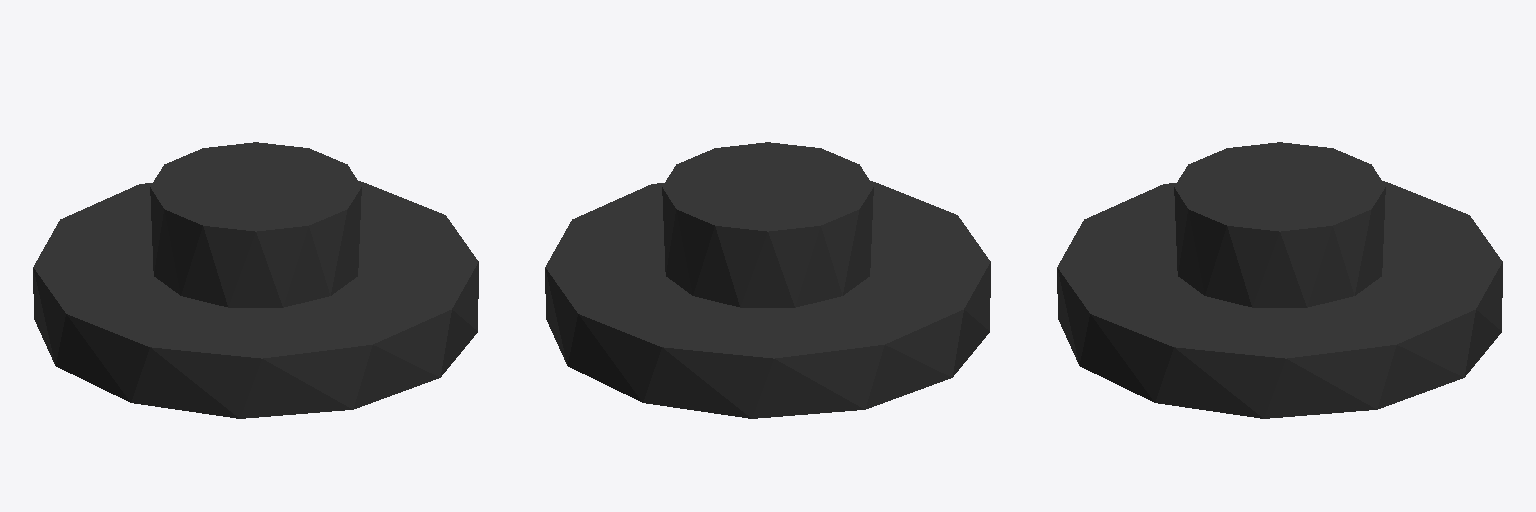
File: arm_v1_1_mesh_2.obj
The picture shows the model from 3 angles: view 1: azimuth 30°, elevation 25°; view 2: azimuth 150°, elevation 25°; view 3: azimuth 270°, elevation 25°; orthographic projection.
Size of the model in its own units: 0.02 by 0.0068 by 0.02.